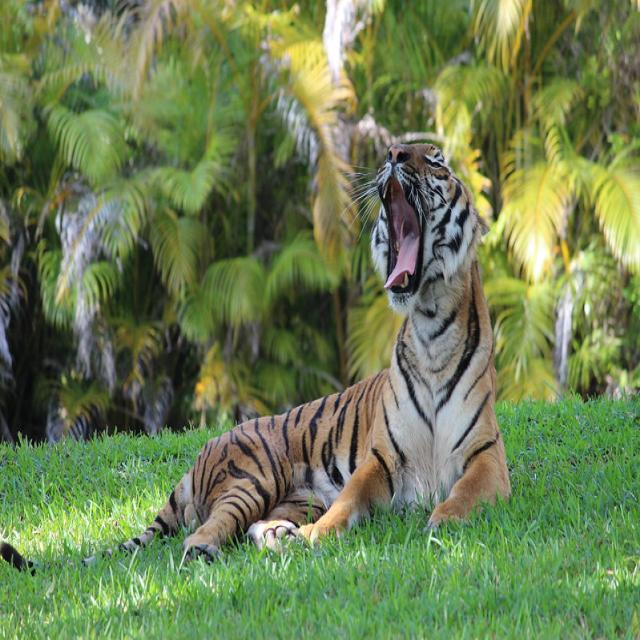Tiger: (127, 140, 510, 567)
